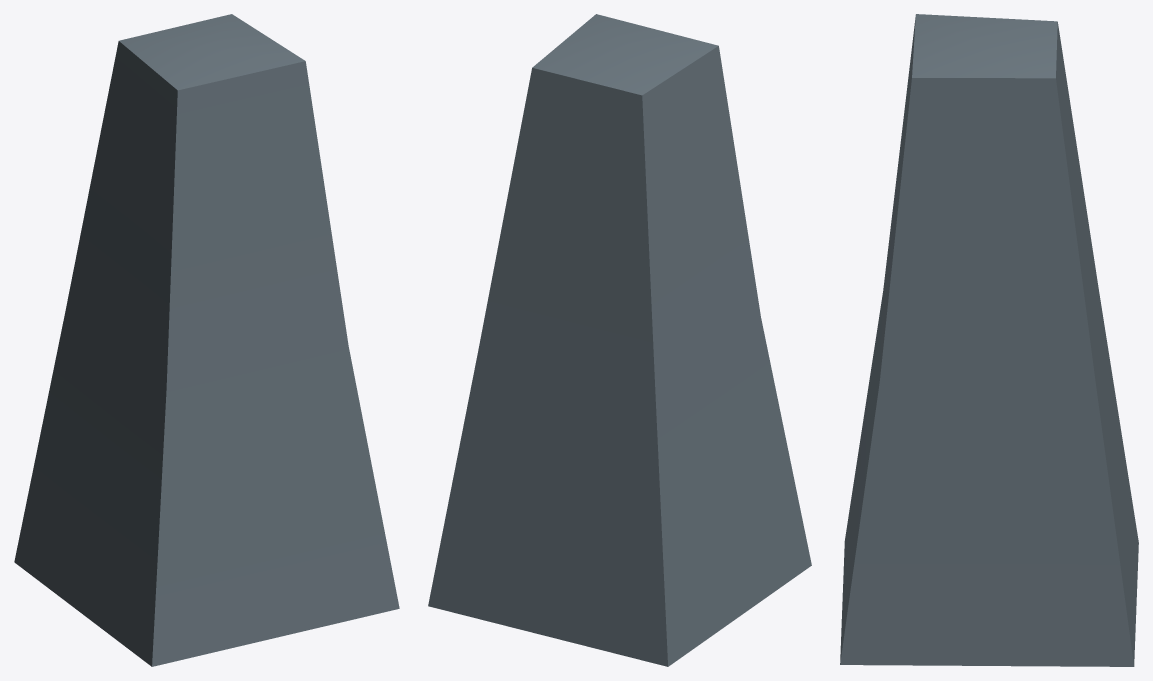
The model's file is wall_tyoe_01.fbx.
3 views of the same model, side by side, from view 1: azimuth 30°, elevation 25°; view 2: azimuth 150°, elevation 25°; view 3: azimuth 270°, elevation 25° (orthographic). The views are drawn at different scales.
Visible parts, largest first — view 1: Cube.013; view 2: Cube.013; view 3: Cube.013.
Boxes of the visible parts, <box> form: Cube.013: <box>14,14,399,666</box>; Cube.013: <box>428,14,811,666</box>; Cube.013: <box>840,14,1138,666</box>.
Bounding box in the file's own units: 45.38 × 94.51 × 45.38.
